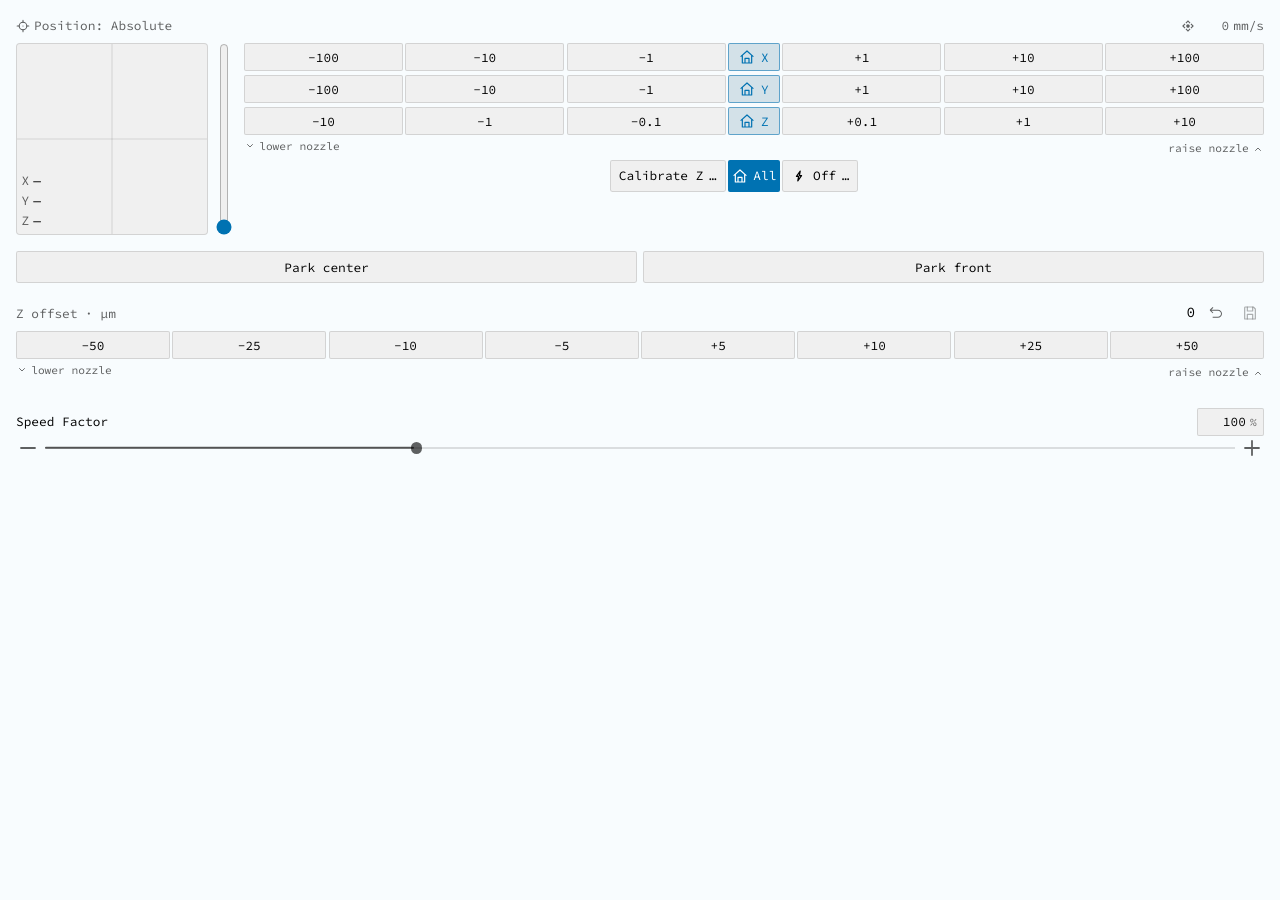
MovementModule › runs PROBE_CALIBRATE behind a confirmation, and disables the shortcut while a manual probe is already active
Click the button with class "jog-probe-calibrate-shortcut". click: point(668, 176)
box: 610,160 -> 726,192
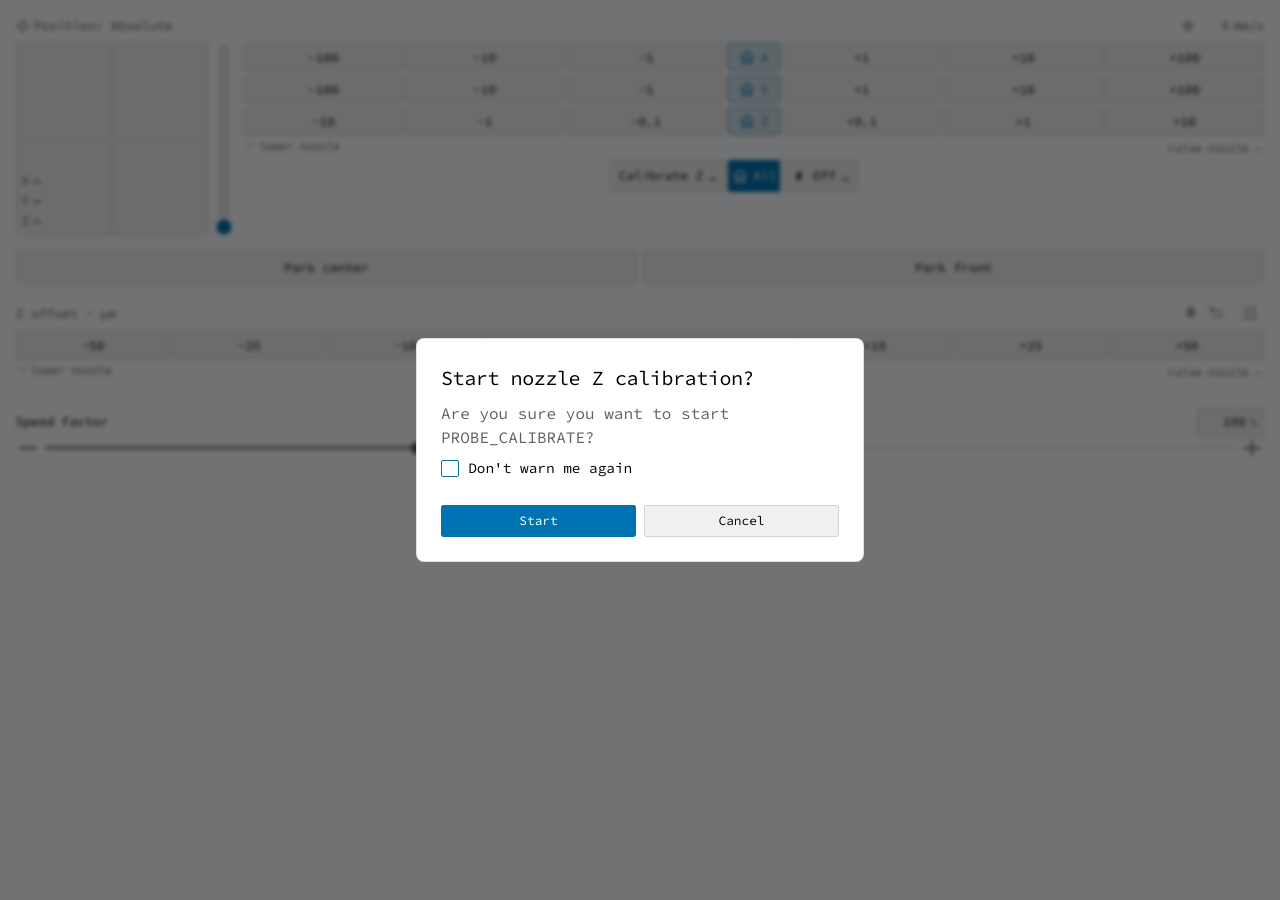
Click the button "Start". click: point(538, 521)
box: 441,505 -> 636,537
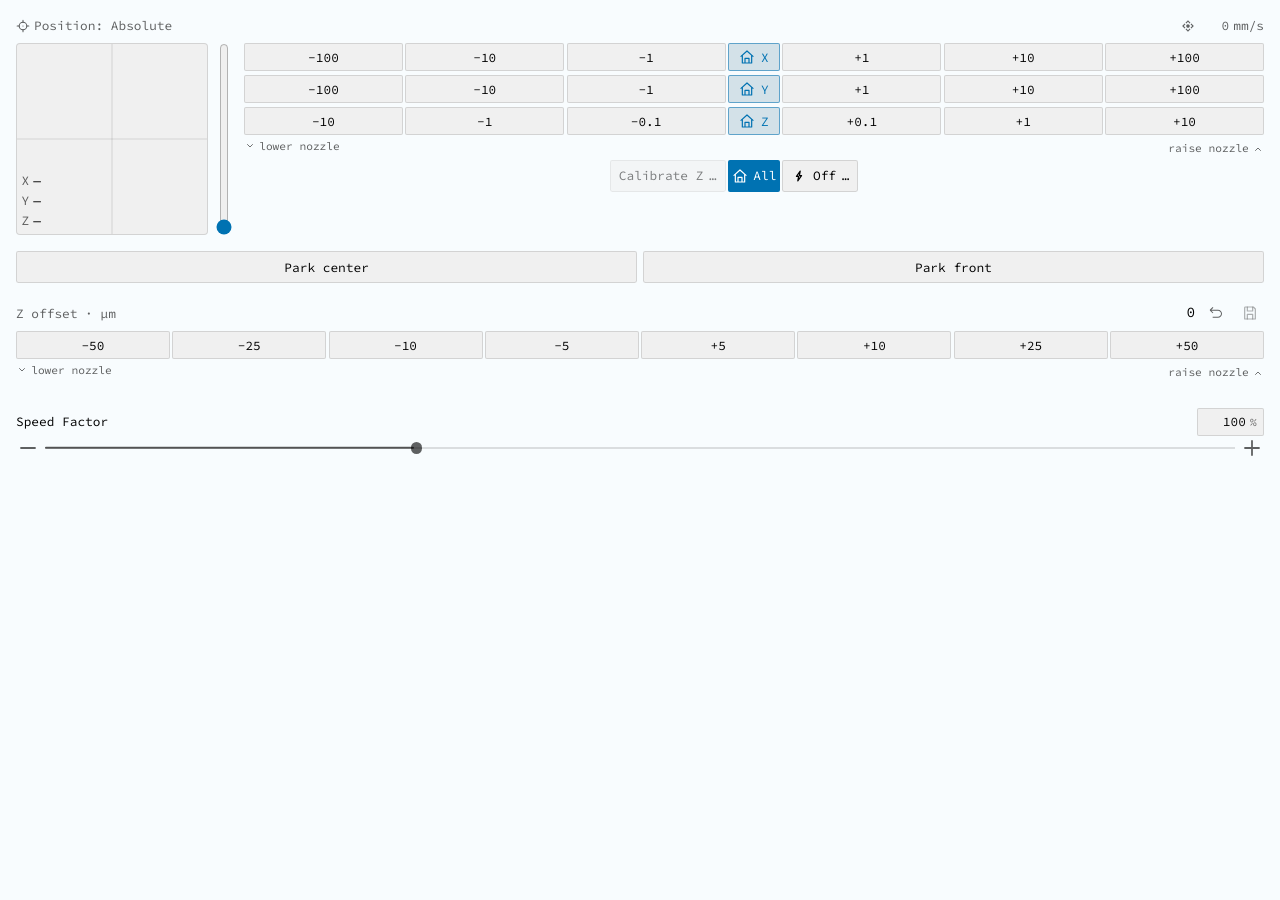
Expected: the button with class "jog-probe-calibrate-shortcut" is disabled, 610,160 -> 726,192
